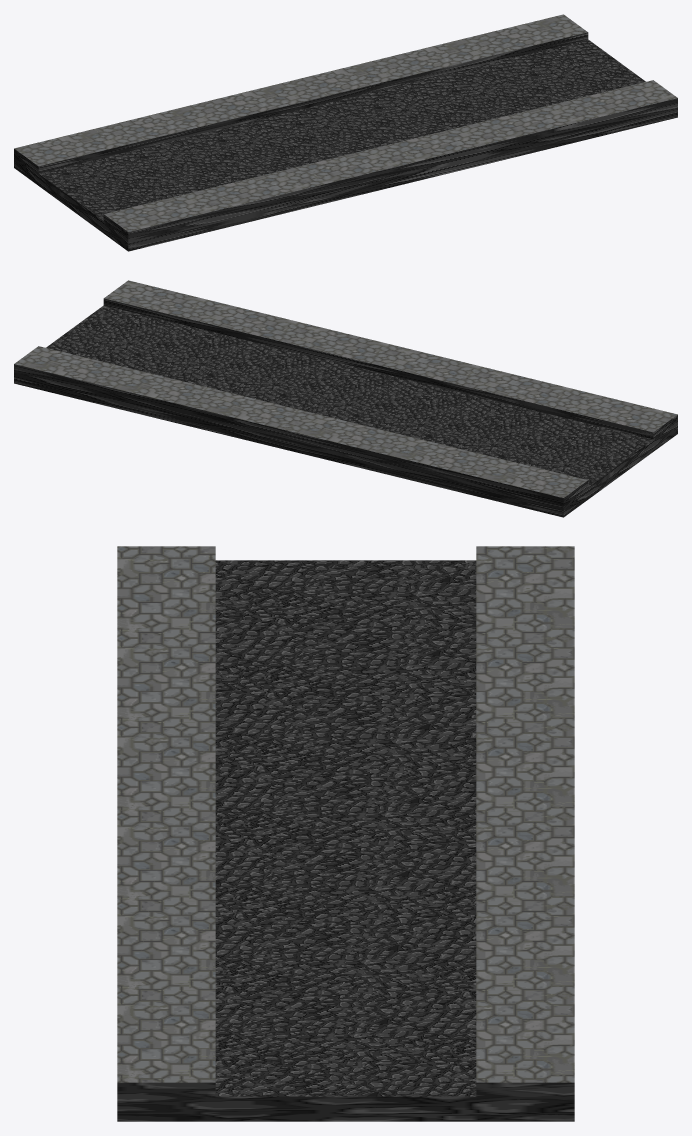
Rendered from Road1Textured.fbx.
3 renders of one model, top to bottom at view 1: azimuth 30°, elevation 25°; view 2: azimuth 150°, elevation 25°; view 3: azimuth 270°, elevation 25°, orthographic. The views are drawn at different scales.
Parts seen in each view (by area): view 1: Cube.032; view 2: Cube.032; view 3: Cube.032.
Part boxes in pixels (x1,y1,x2,y2): Cube.032: (14, 14, 677, 251); Cube.032: (14, 280, 677, 517); Cube.032: (117, 546, 574, 1121).
Bounding box in the file's own units: 1289 × 43.57 × 464.
